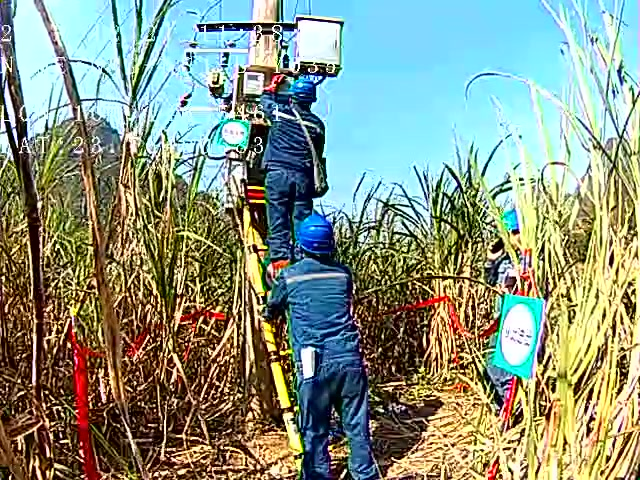halt: (298, 217, 339, 261), (502, 210, 532, 254), (289, 78, 320, 111)
